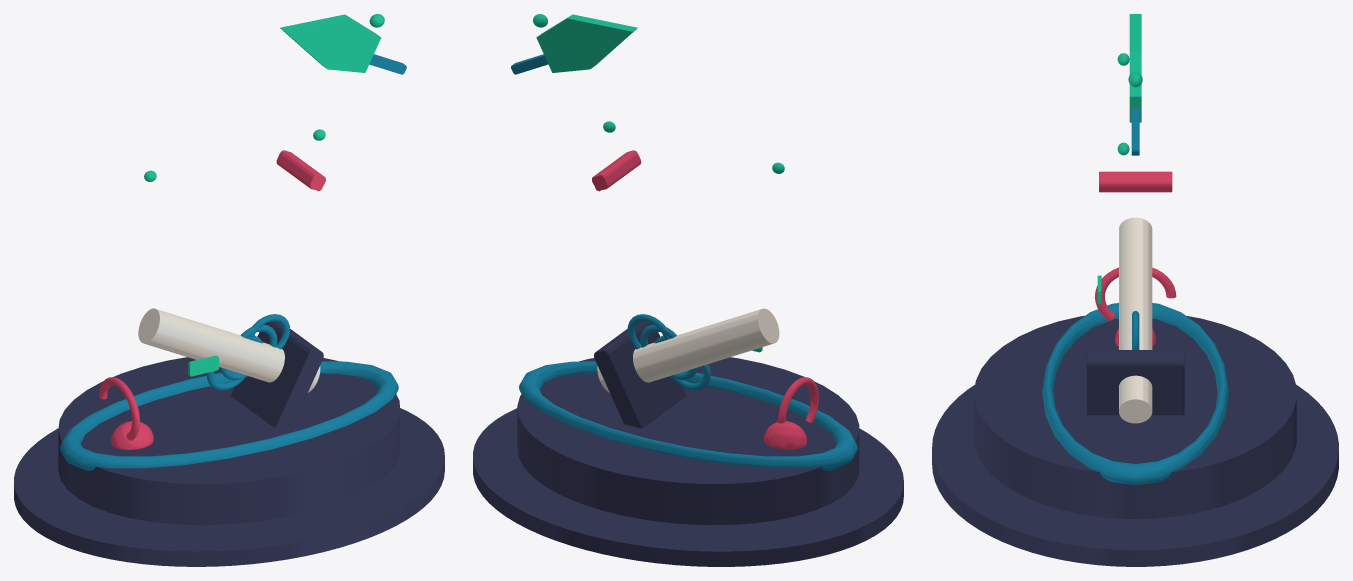
File: 0443_机械图鉴_桔槔.glb
3 renders of one model, left to right at view 1: azimuth 30°, elevation 25°; view 2: azimuth 150°, elevation 25°; view 3: azimuth 270°, elevation 25°, orthographic. The views are drawn at different scales.
Parts seen in each view (by area): view 1: card_0443; view 2: card_0443; view 3: card_0443.
Part boxes in pixels (box(x1,y1,x2,y2)): card_0443: box(14, 14, 444, 566); card_0443: box(473, 14, 903, 566); card_0443: box(932, 14, 1338, 566).
Size of the model in its own units: 0.9069 by 1 by 0.7592.
